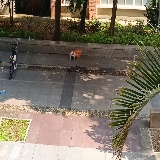fire: (72, 48, 82, 57)
